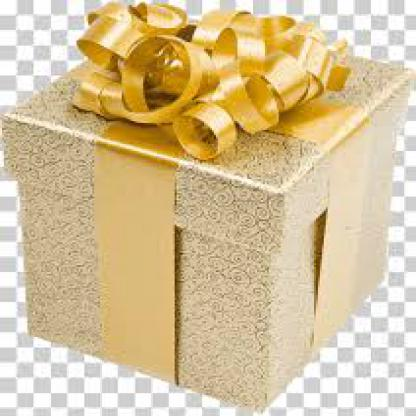paquete: (2, 2, 414, 407)
